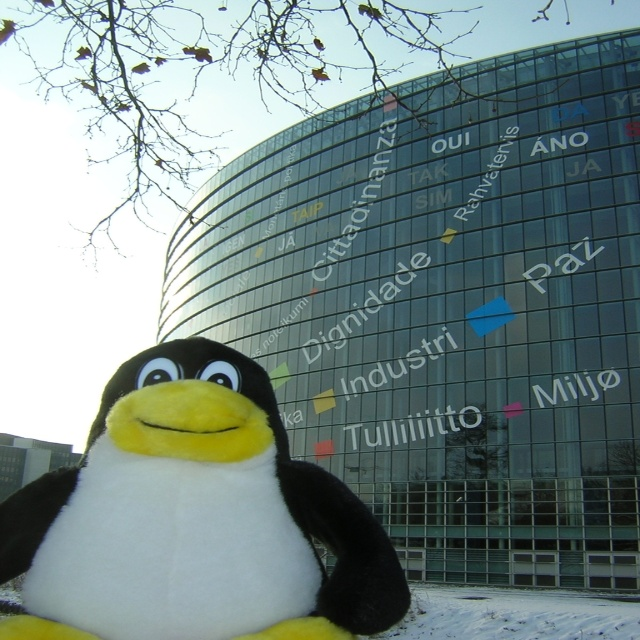Penguin: (0, 338, 412, 640)
